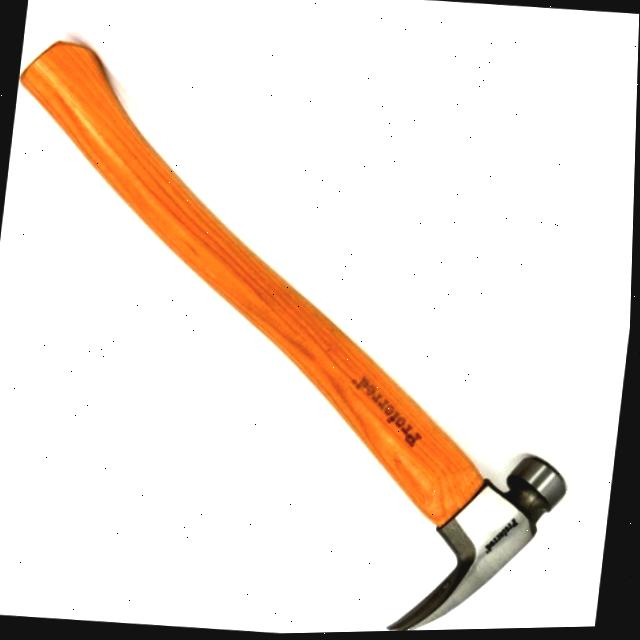hammer: (0, 20, 624, 640)
